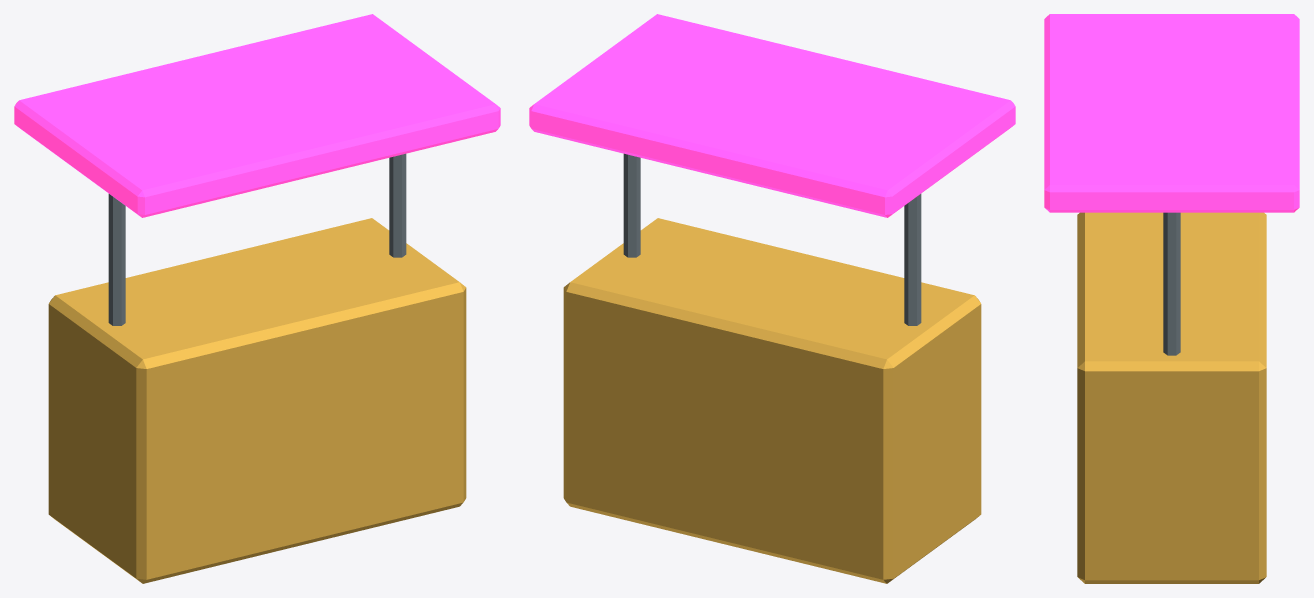
Rendered from street_030_seed11.glb.
3 views of the same model, side by side, from view 1: azimuth 30°, elevation 25°; view 2: azimuth 150°, elevation 25°; view 3: azimuth 270°, elevation 25° (orthographic).
Parts seen in each view (by area): view 1: street_030_seed11; view 2: street_030_seed11; view 3: street_030_seed11.
Boxes of the visible parts, x1,y1,x2,y2 form: street_030_seed11: (14, 14, 500, 583); street_030_seed11: (529, 14, 1015, 583); street_030_seed11: (1044, 14, 1299, 583).
Bounding box in the file's own units: 2.2 × 2.38 × 1.35.
